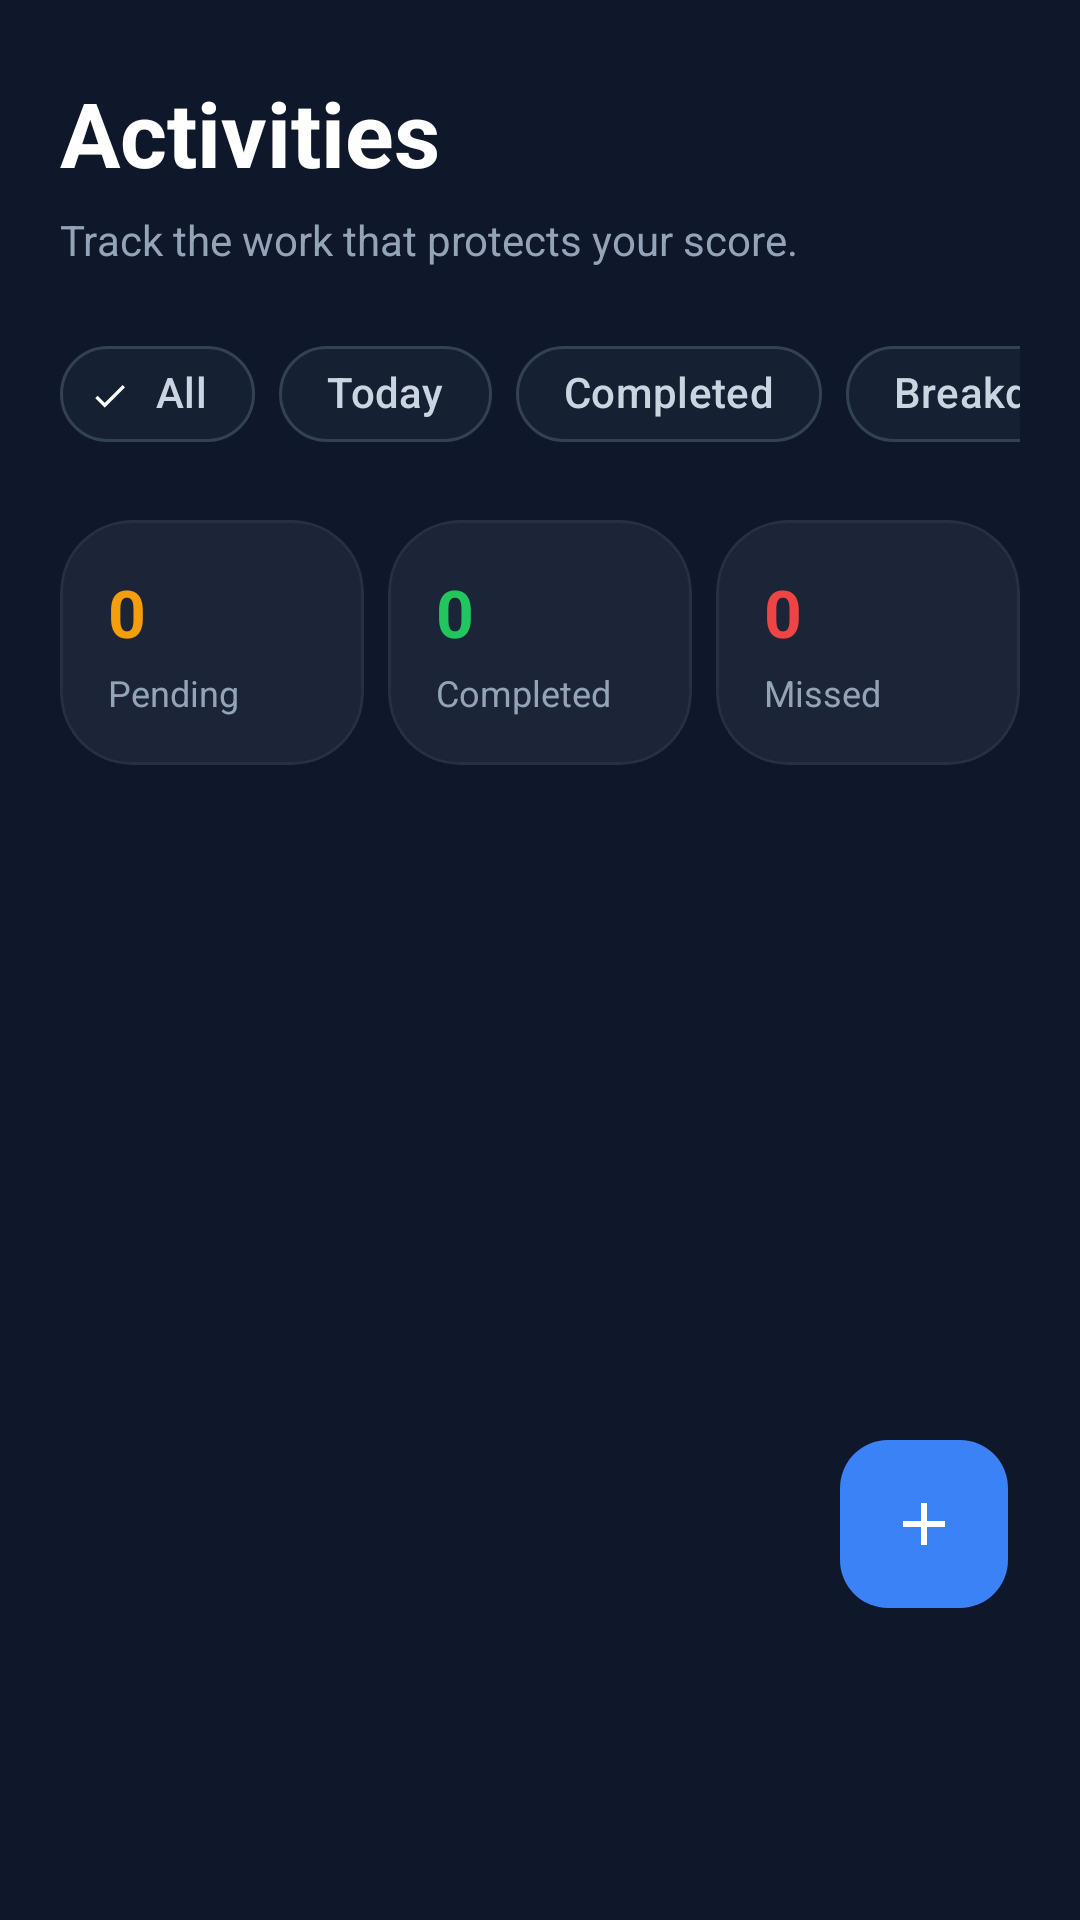

Named icons in this screenshot (1080 × 1920) and their bounding boxes, box=[x1, y1, x2, y2]:
Add activity: box=[840, 1440, 1008, 1608]
